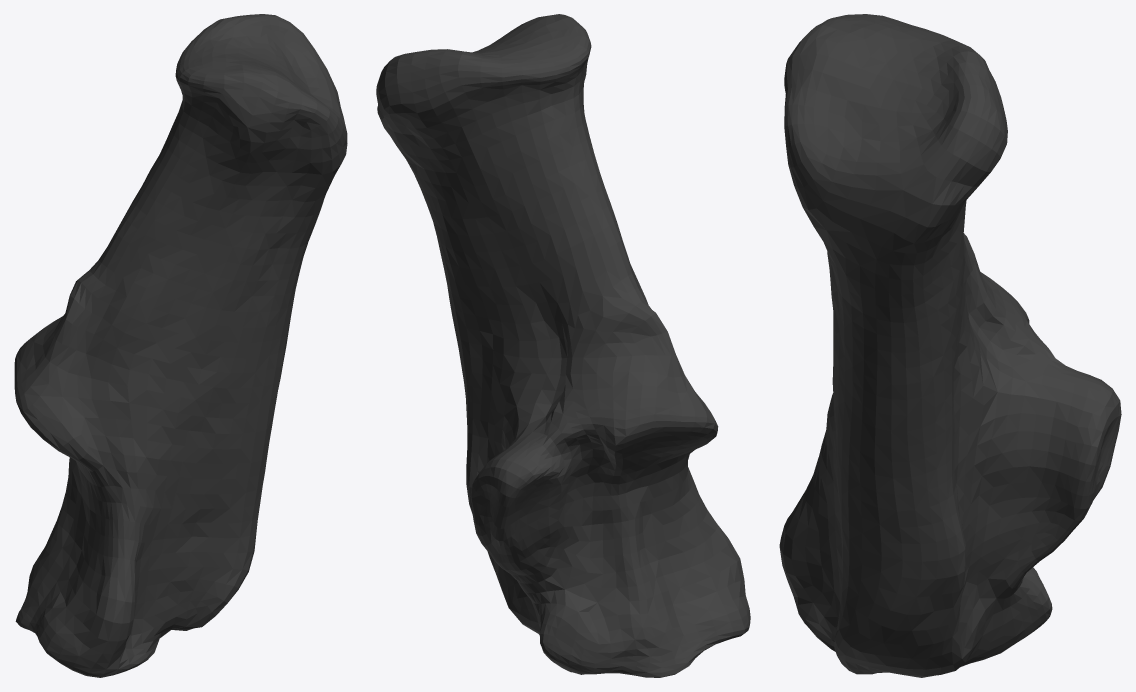
File: calcaneus_L.glb
3 renders of one model, left to right at view 1: azimuth 30°, elevation 25°; view 2: azimuth 150°, elevation 25°; view 3: azimuth 270°, elevation 25°, orthographic. The views are drawn at different scales.
Visible parts, largest first — view 1: calcaneus_L; view 2: calcaneus_L; view 3: calcaneus_L.
Part boxes in pixels (left/top/right/bottom): calcaneus_L: left=14, top=14, right=347, bottom=677; calcaneus_L: left=376, top=14, right=750, bottom=677; calcaneus_L: left=779, top=14, right=1121, bottom=677.
Bounding box in the file's own units: 0.0416 × 0.0712 × 0.0322.
1 material, 1 textured.
